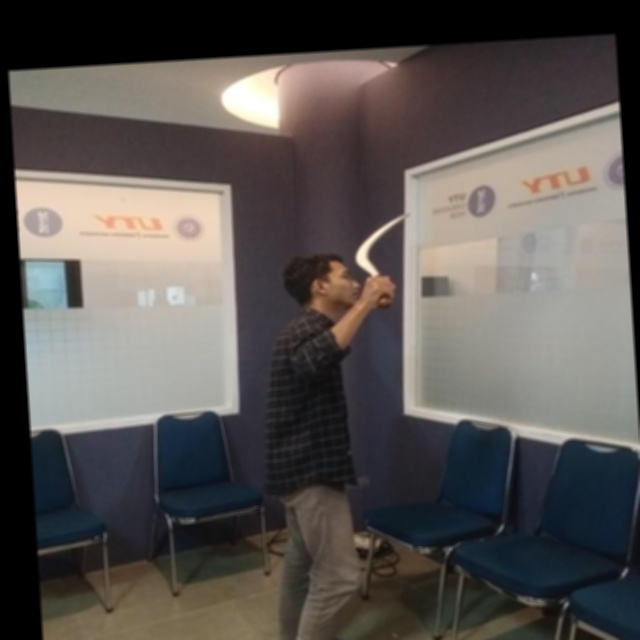Sharp-Object: (351, 209, 416, 311)
